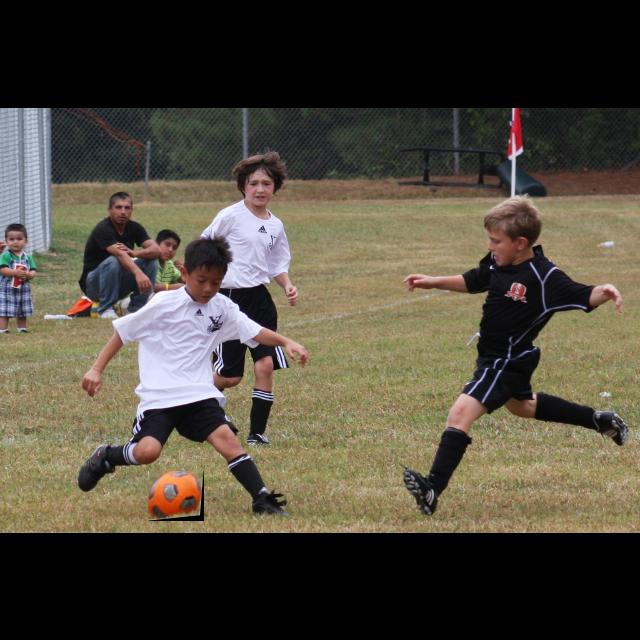Football: (148, 471, 204, 521)
